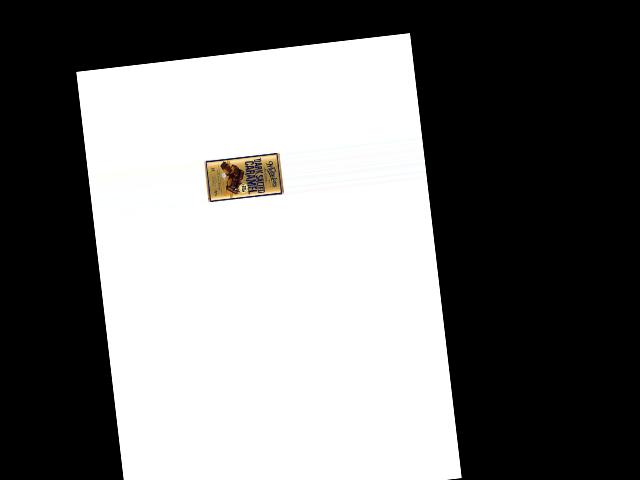chocolate: (201, 151, 283, 206)
